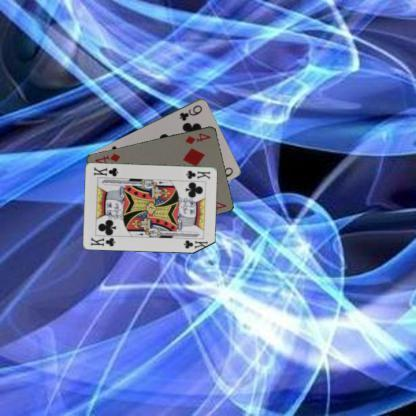4d: (182, 130, 212, 146)
9c: (177, 102, 203, 122)
Kc: (88, 235, 117, 247), (184, 168, 212, 180)
